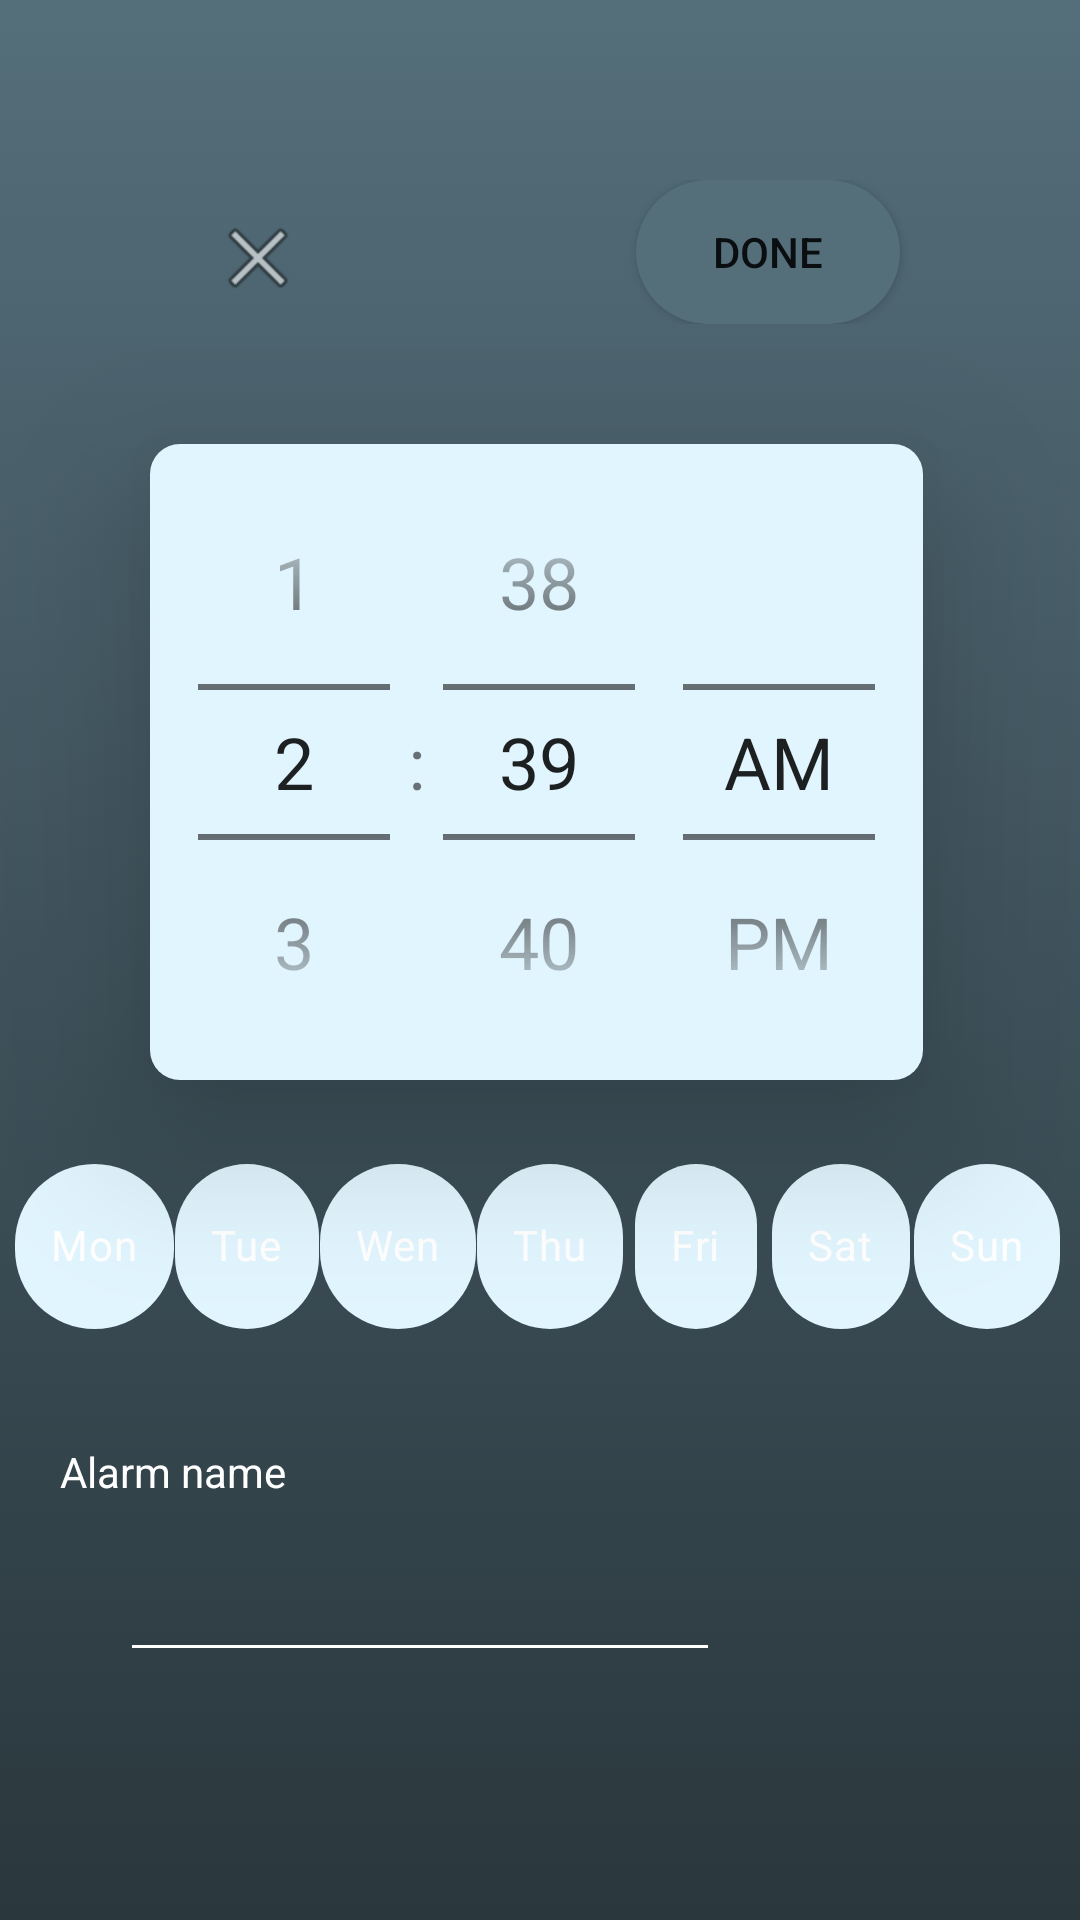

Where to tap for icons on this 1080w x 1920h app screen, as point (x, y):
close clear cancel: point (258, 258)
